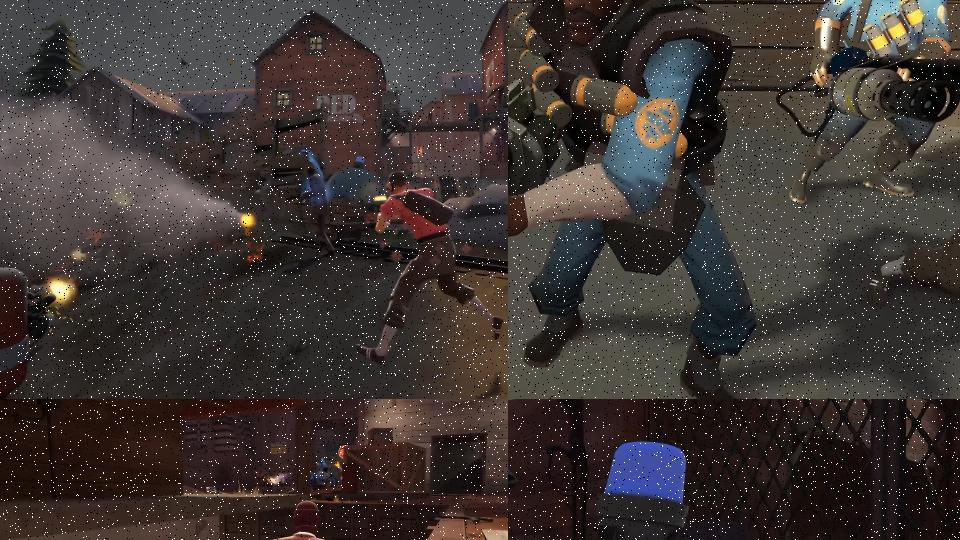Enemy: (508, 0, 758, 399), (773, 0, 960, 199), (868, 33, 960, 368), (355, 169, 504, 366), (285, 164, 338, 256), (427, 110, 436, 123)
